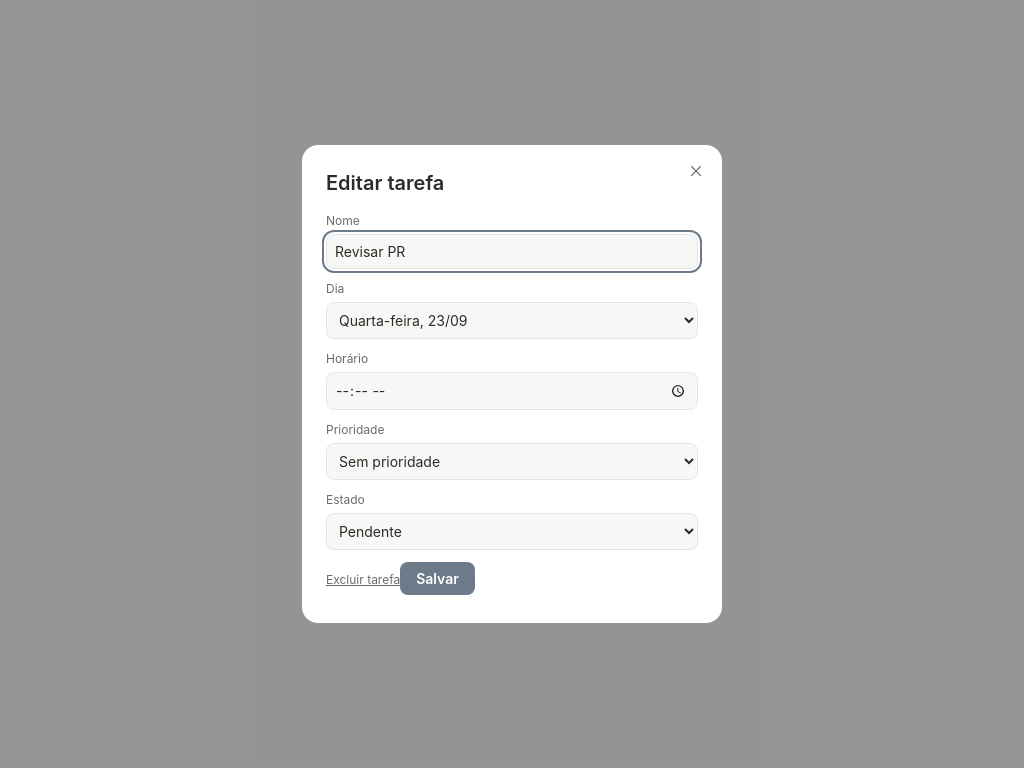
TaskModal — Excluir tarefa com confirmação (Story 2.3) › abre confirmação: clica "Excluir tarefa", conteúdo vira Confirmação com texto e botões exatos, nunca um segundo modal
Click the button "Excluir tarefa": (363, 579) [326,572,400,587]
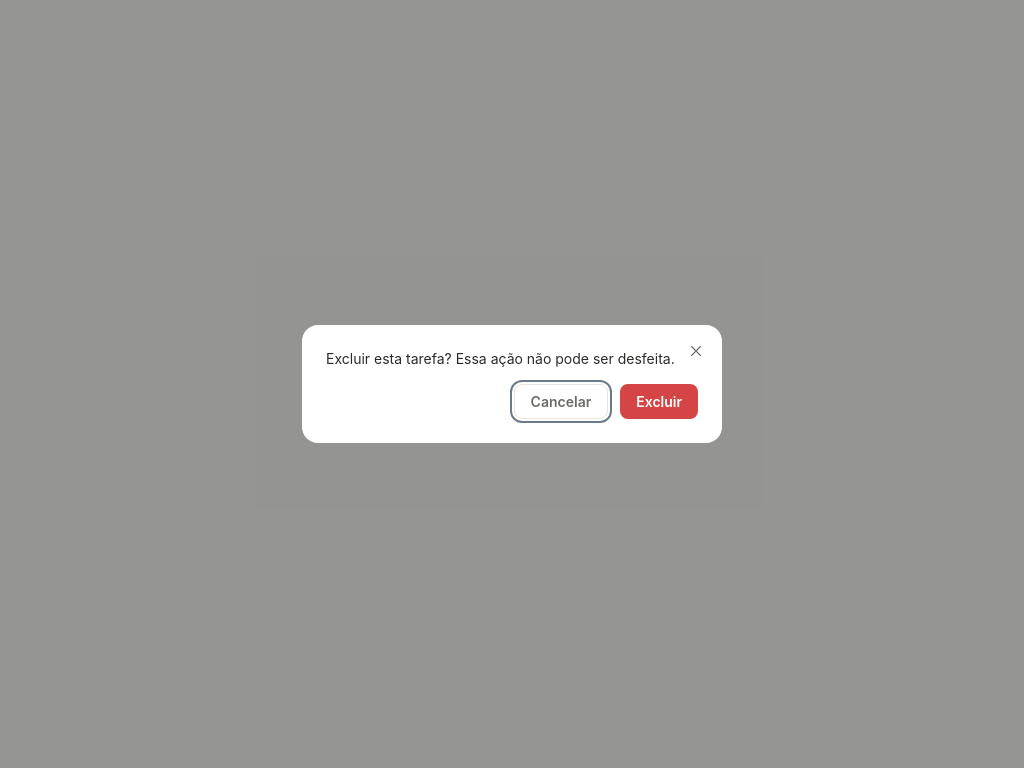
Check: the text "Excluir esta tarefa? Essa ação não pode ser desfeita." is shown, box [326,349,698,368]
Check: the button "Cancelar" is shown, box [514,384,608,419]
Check: the button "Excluir" is shown, box [620,384,698,419]
